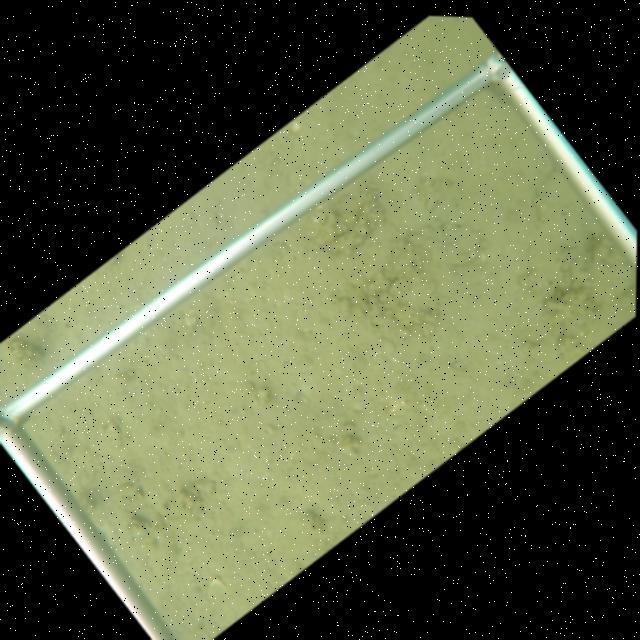Oyster-Indeterminate: (406, 222, 489, 268)
